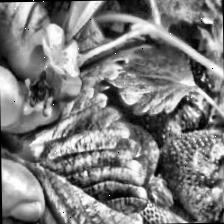Anthracnose Fruit Rot: (188, 144, 216, 176)
